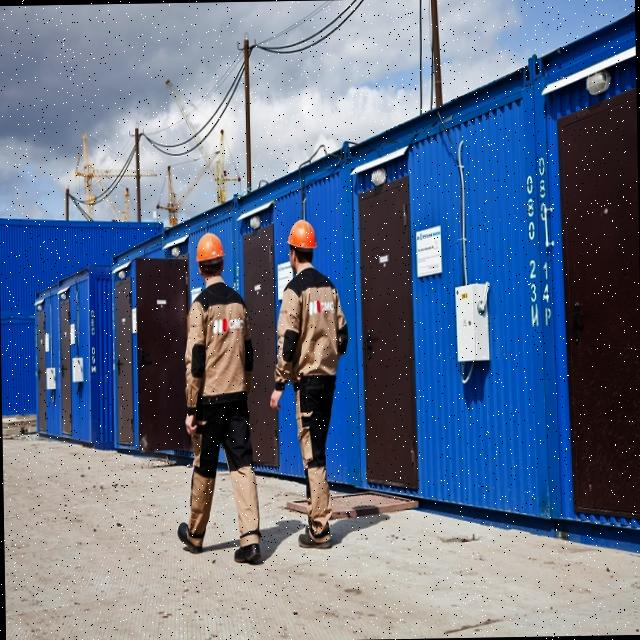Helmet: (285, 220, 318, 254), (197, 232, 227, 269)
NoJacket: (189, 277, 249, 401), (291, 262, 338, 374)
